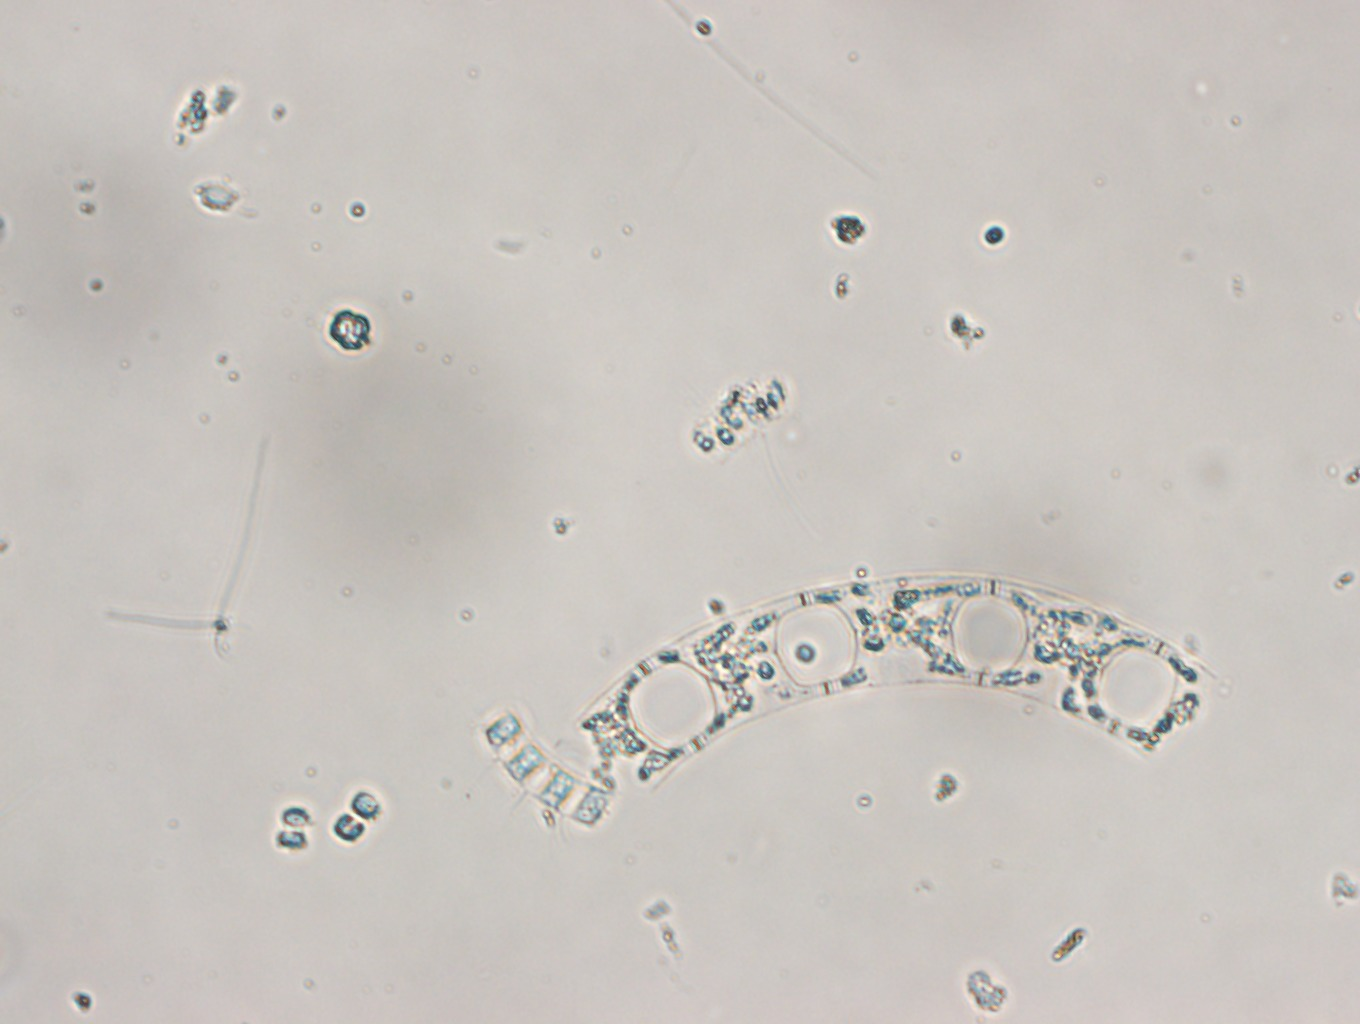eucampia: (581, 561, 1213, 801)
